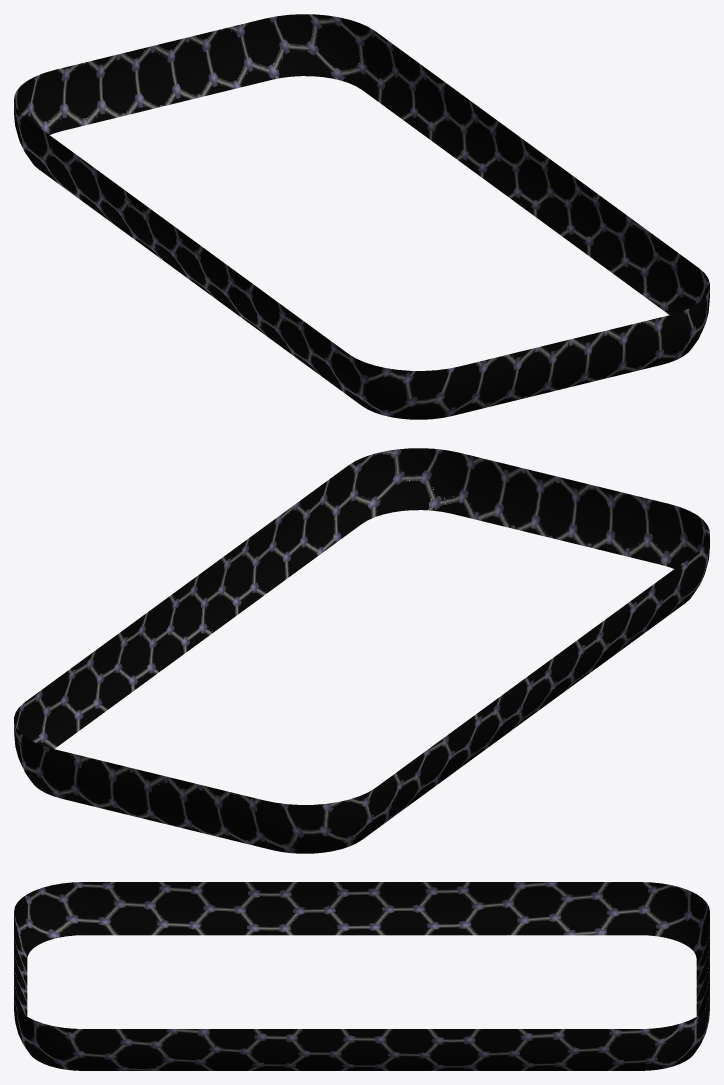
Rendered from GroundHole.fbx.
3 views of the same model, one above another, from view 1: azimuth 30°, elevation 25°; view 2: azimuth 150°, elevation 25°; view 3: azimuth 270°, elevation 25° (orthographic). The views are drawn at different scales.
Visible parts, largest first — view 1: ChamferBox001; view 2: ChamferBox001; view 3: ChamferBox001.
Part boxes in pixels (x1=…): ChamferBox001: x1=14, y1=14, x2=709, y2=419; ChamferBox001: x1=14, y1=448, x2=709, y2=853; ChamferBox001: x1=14, y1=882, x2=709, y2=1070.
Bounding box in the file's own units: 78.74 × 11.88 × 157.
